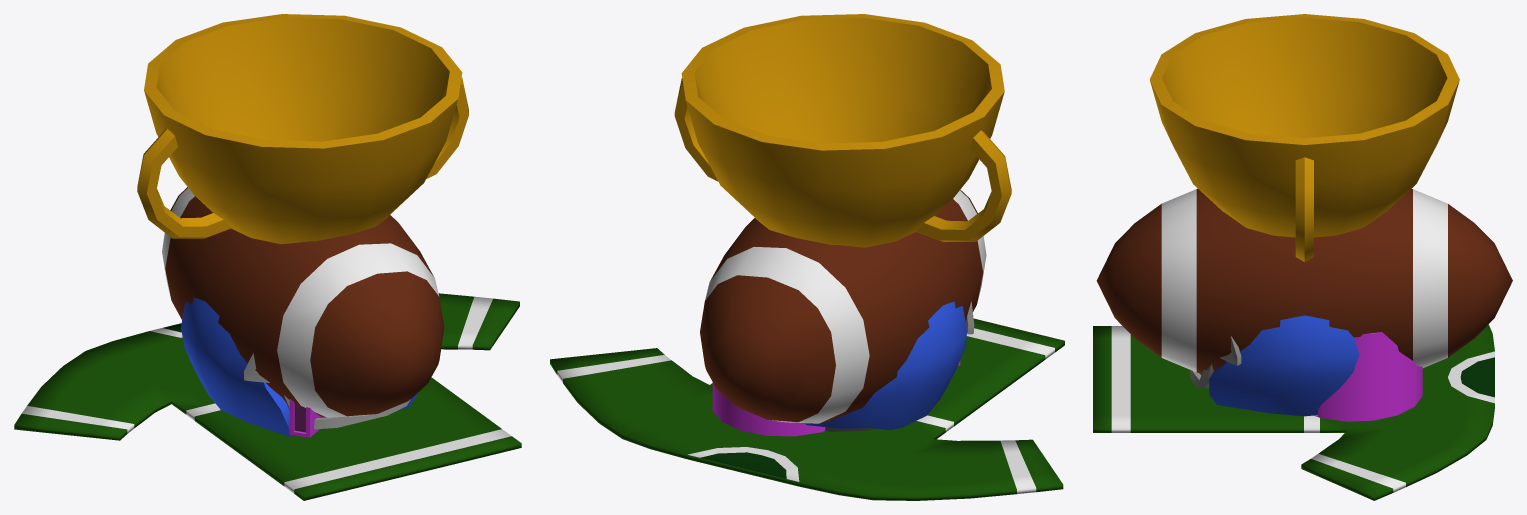
File: nfl_items.fbx
The picture shows the model from 3 angles, left to right: view 1: azimuth 30°, elevation 25°; view 2: azimuth 150°, elevation 25°; view 3: azimuth 270°, elevation 25°; orthographic projection. The views are drawn at different scales.
Visible parts, largest first — view 1: cup, ball, shirt, helmet, Whistle; view 2: cup, ball, shirt, helmet, Whistle; view 3: cup, ball, shirt, helmet, Whistle.
Boxes of the visible parts, bbox=[...] form: cup: bbox=[137, 14, 468, 409]; ball: bbox=[162, 187, 444, 417]; shirt: bbox=[14, 293, 521, 500]; helmet: bbox=[181, 297, 417, 436]; Whistle: bbox=[289, 399, 325, 437]; cup: bbox=[674, 14, 1011, 431]; ball: bbox=[700, 190, 986, 423]; shirt: bbox=[550, 318, 1064, 500]; helmet: bbox=[805, 301, 974, 430]; Whistle: bbox=[712, 360, 960, 436]; cup: bbox=[1149, 14, 1459, 262]; ball: bbox=[1096, 188, 1512, 373]; shirt: bbox=[1093, 324, 1494, 500]; helmet: bbox=[1190, 315, 1359, 416]; Whistle: bbox=[1314, 332, 1422, 421].
Bounding box in the file's own units: 4.72 × 2.8 × 3.51.
